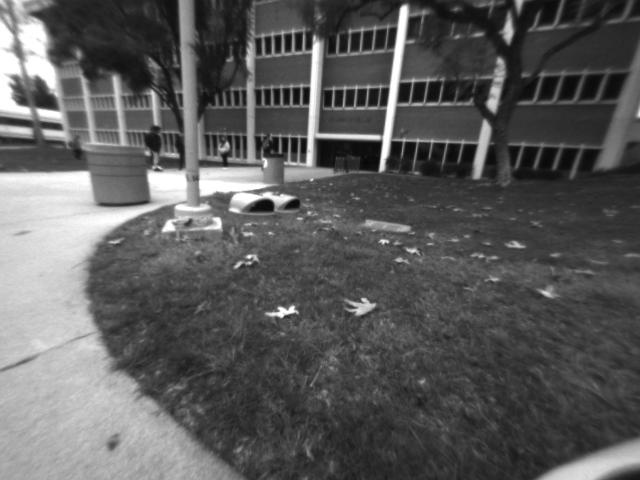trashcan: (89, 141, 153, 211), (261, 152, 288, 192)
